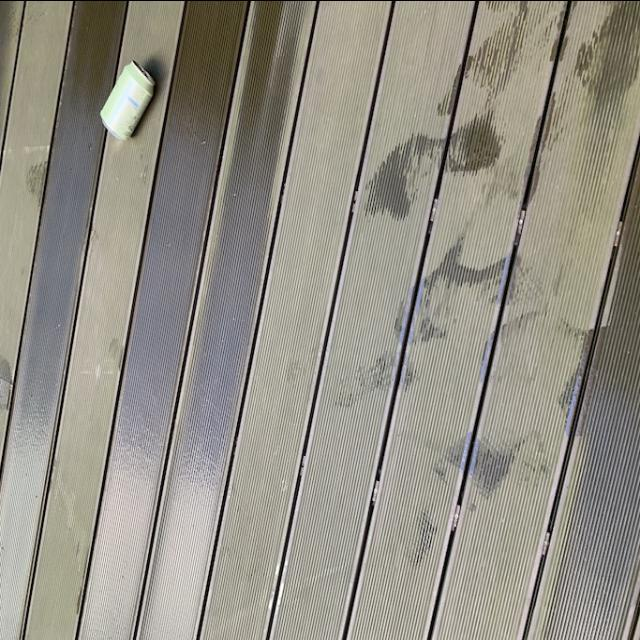Aluminum Can: (101, 58, 158, 144)
